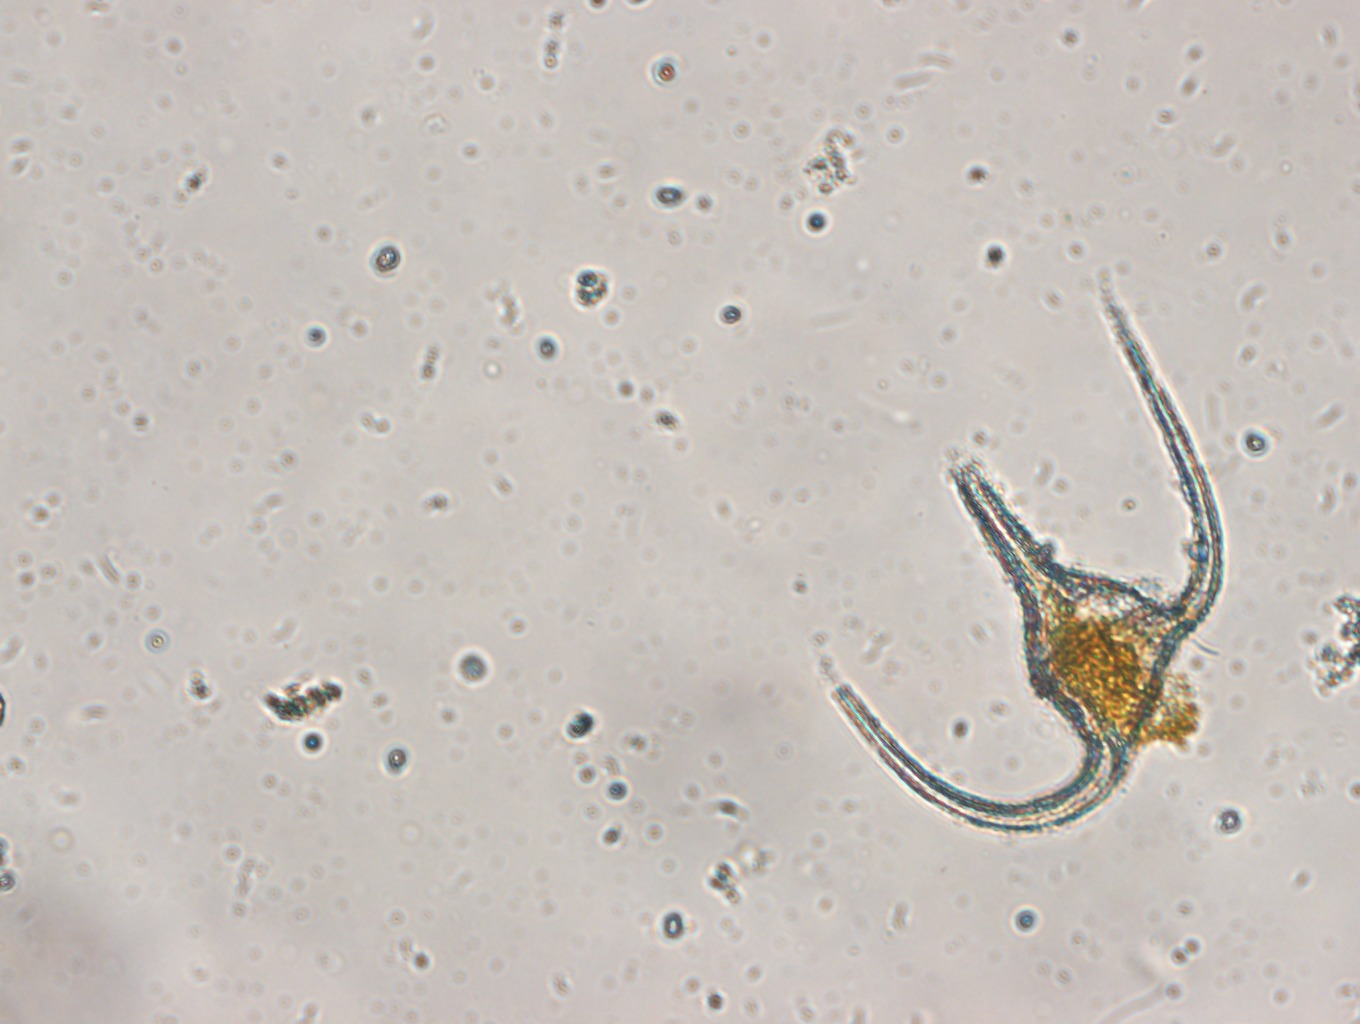ceratium trichoceros: (808, 285, 1245, 843)
